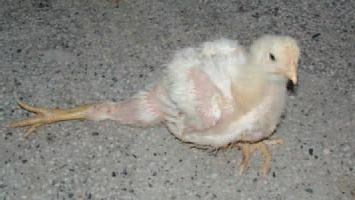AbNormal: (14, 31, 309, 174)
